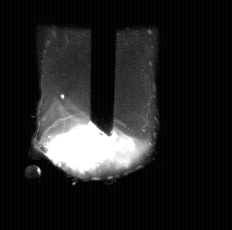arame: (92, 0, 115, 137)
poca: (36, 0, 156, 230)
